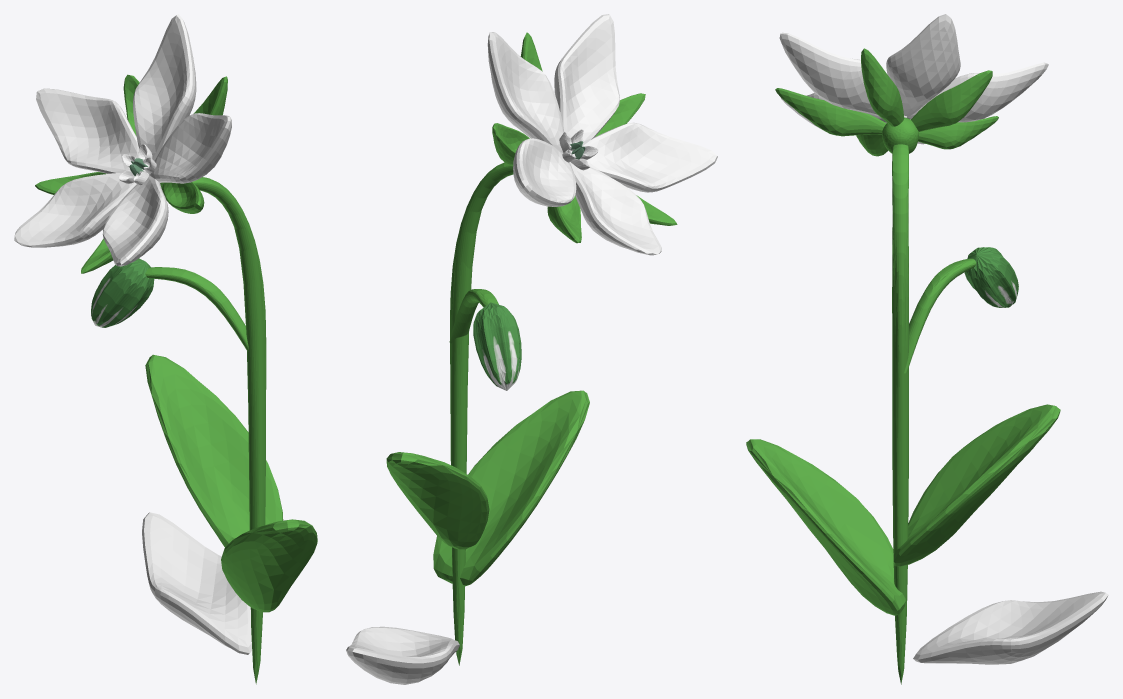
The model's file is Anxiety_Borage.glb.
3 renders of one model, left to right at view 1: azimuth 30°, elevation 25°; view 2: azimuth 150°, elevation 25°; view 3: azimuth 270°, elevation 25°, orthographic. The views are drawn at different scales.
Parts seen in each view (by area): view 1: Cylinder, Cube; view 2: Cylinder, Cube; view 3: Cylinder, Cube.
Part boxes in pixels (x1,y1,x2,y2): Cylinder: [14, 14, 317, 684]; Cube: [142, 512, 252, 654]; Cylinder: [386, 14, 717, 665]; Cube: [346, 626, 459, 684]; Cylinder: [746, 14, 1060, 684]; Cube: [913, 591, 1108, 664].
Size of the model in its own units: 6.33 by 15.24 by 7.77.
4 materials, 1 textured.
